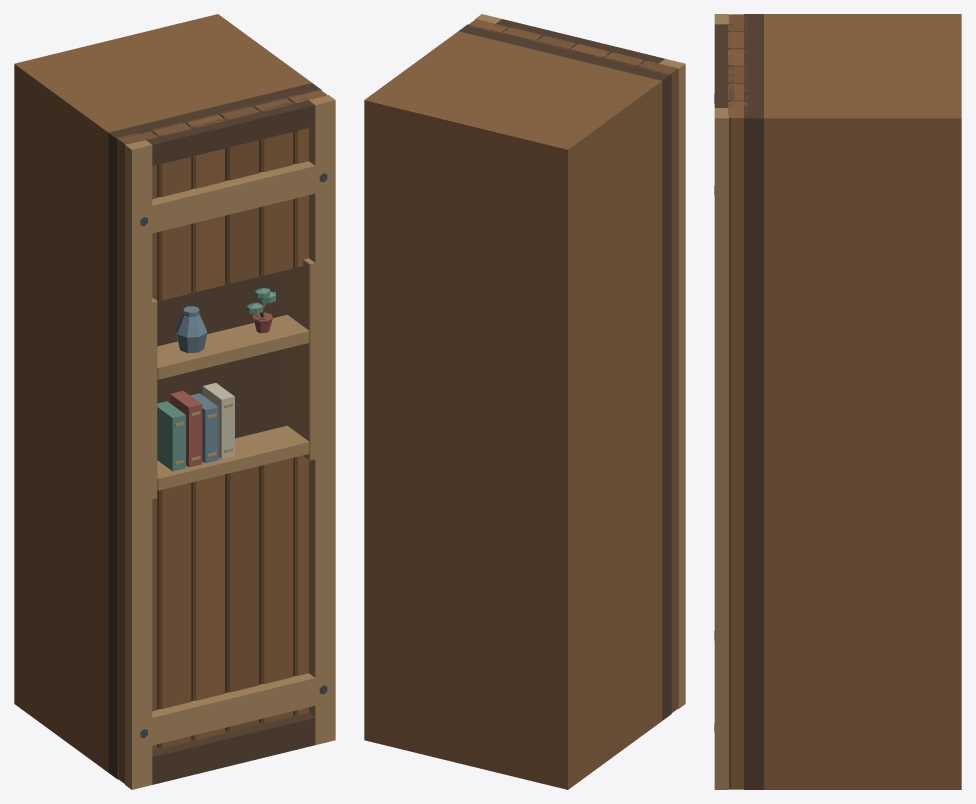
File: wall_barn_shelf.glb
3 renders of one model, left to right at view 1: azimuth 30°, elevation 25°; view 2: azimuth 150°, elevation 25°; view 3: azimuth 270°, elevation 25°, orthographic. The views are drawn at different scales.
Parts seen in each view (by area): view 1: face_front, geometry; view 2: geometry, face_front; view 3: geometry, face_front.
Boxes of the visible parts, box(x1,y1,x2,y2) form: face_front: box(108, 83, 335, 789); geometry: box(14, 14, 311, 772); geometry: box(364, 31, 662, 789); face_front: box(458, 14, 685, 720); geometry: box(764, 14, 961, 789); face_front: box(714, 14, 763, 789).
Size of the model in its own units: 1 by 3 by 1.
